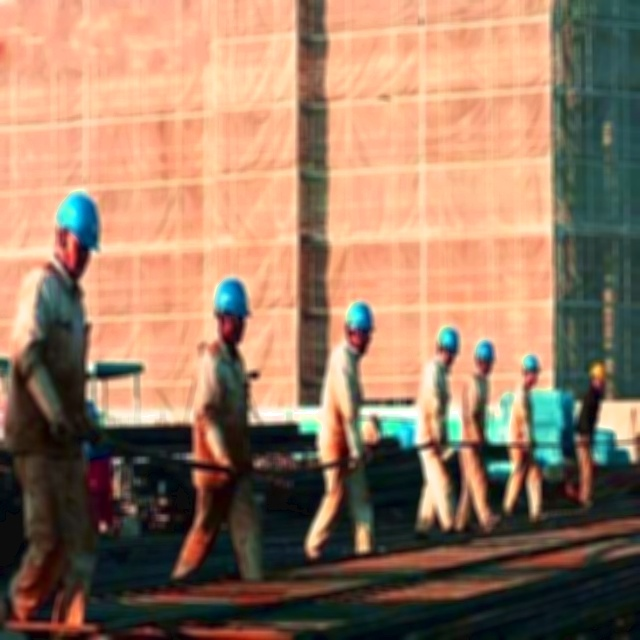Con_Casco: (54, 192, 101, 273), (213, 280, 251, 344), (344, 302, 376, 354)
